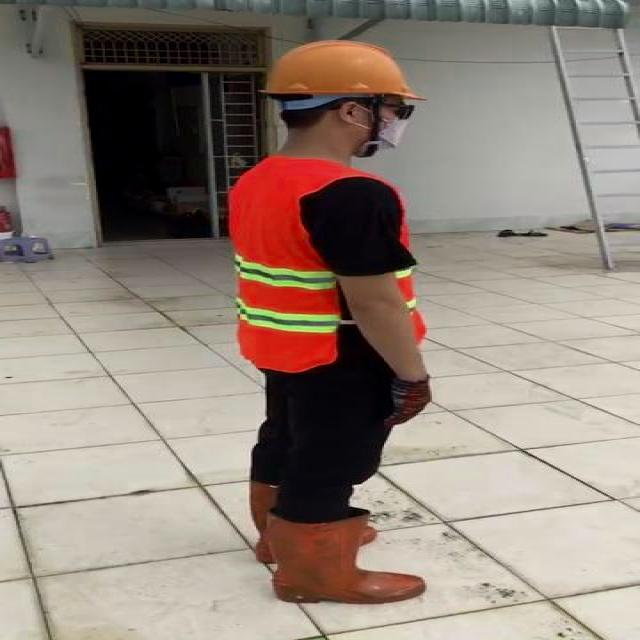boots: (265, 507, 425, 604), (244, 478, 384, 564)
hand_glove: (382, 377, 432, 425)
head_helmet: (256, 35, 430, 106)
person: (217, 38, 450, 620)
vest: (229, 158, 423, 370)
